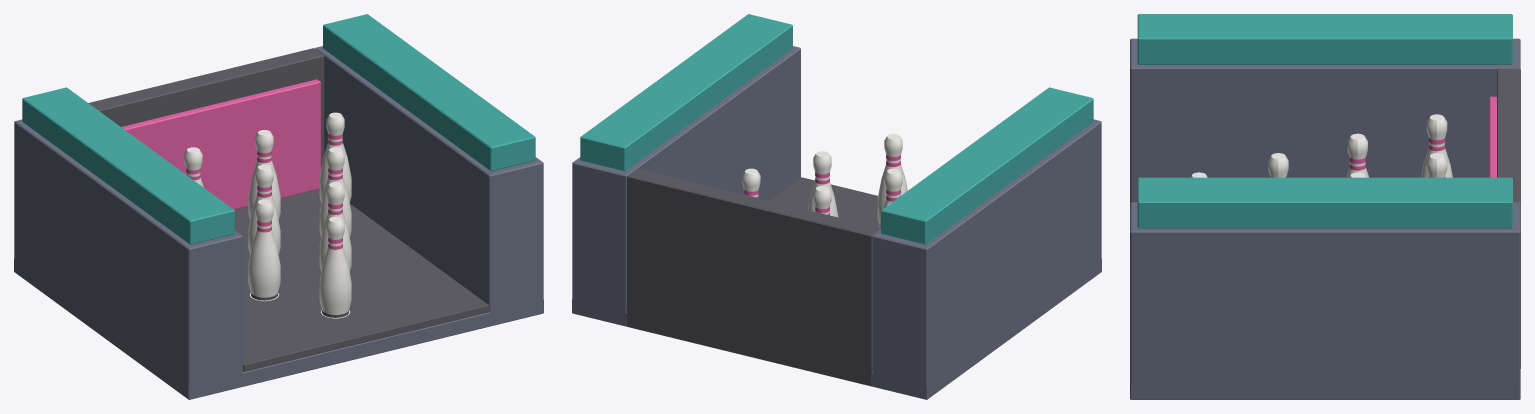
File: bowling-alley-and-pool-hall-bowling-pin-deck-with-rack-8184af97__33839.glb
3 views of the same model, side by side, from view 1: azimuth 30°, elevation 25°; view 2: azimuth 150°, elevation 25°; view 3: azimuth 270°, elevation 25° (orthographic). The views are drawn at different scales.
Parts seen in each view (by area): view 1: bowling-pin-deck-with-rack; view 2: bowling-pin-deck-with-rack; view 3: bowling-pin-deck-with-rack.
Part boxes in pixels (x1,y1,x2,y2): bowling-pin-deck-with-rack: [14, 14, 543, 399]; bowling-pin-deck-with-rack: [572, 14, 1101, 399]; bowling-pin-deck-with-rack: [1130, 14, 1520, 399].
Size of the model in its own units: 1.52 by 0.72 by 1.3.
